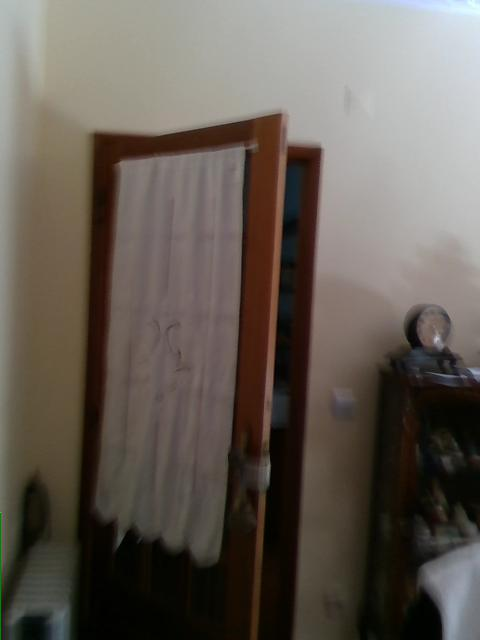semi_door: (74, 105, 327, 639)
